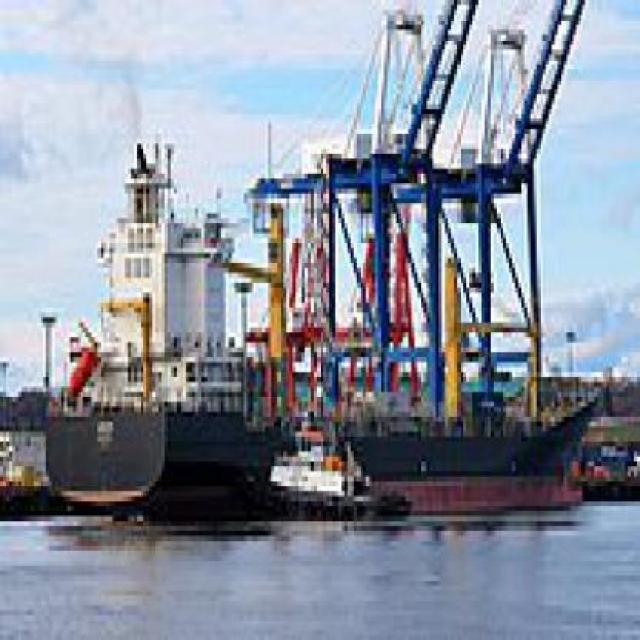container: (37, 80, 614, 522)
